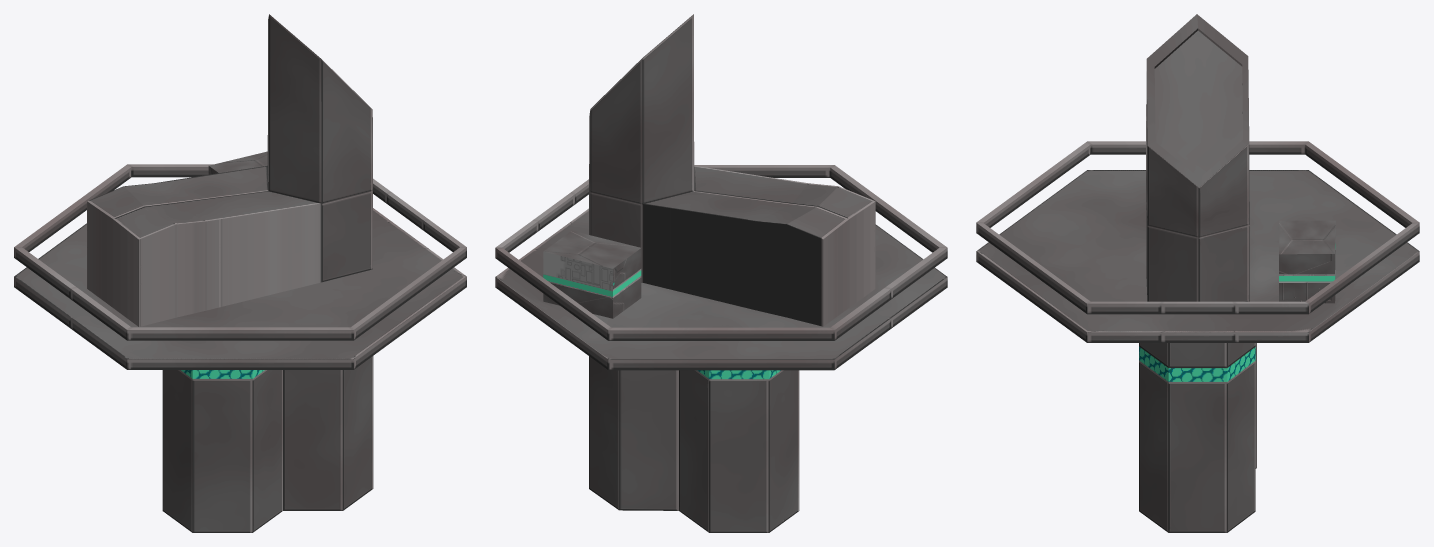
Rendered from economyMILState3.fbx.
The picture shows the model from 3 angles, left to right: view 1: azimuth 30°, elevation 25°; view 2: azimuth 150°, elevation 25°; view 3: azimuth 270°, elevation 25°; orthographic projection. The views are drawn at different scales.
Parts seen in each view (by area): view 1: Cylinder_001; view 2: Cylinder_001; view 3: Cylinder_001.
Part boxes in pixels (x1,y1,x2,y2): Cylinder_001: [14, 14, 466, 532]; Cylinder_001: [495, 14, 947, 532]; Cylinder_001: [976, 14, 1419, 532].
Bounding box in the file's own units: 1.73 × 2.37 × 2.
